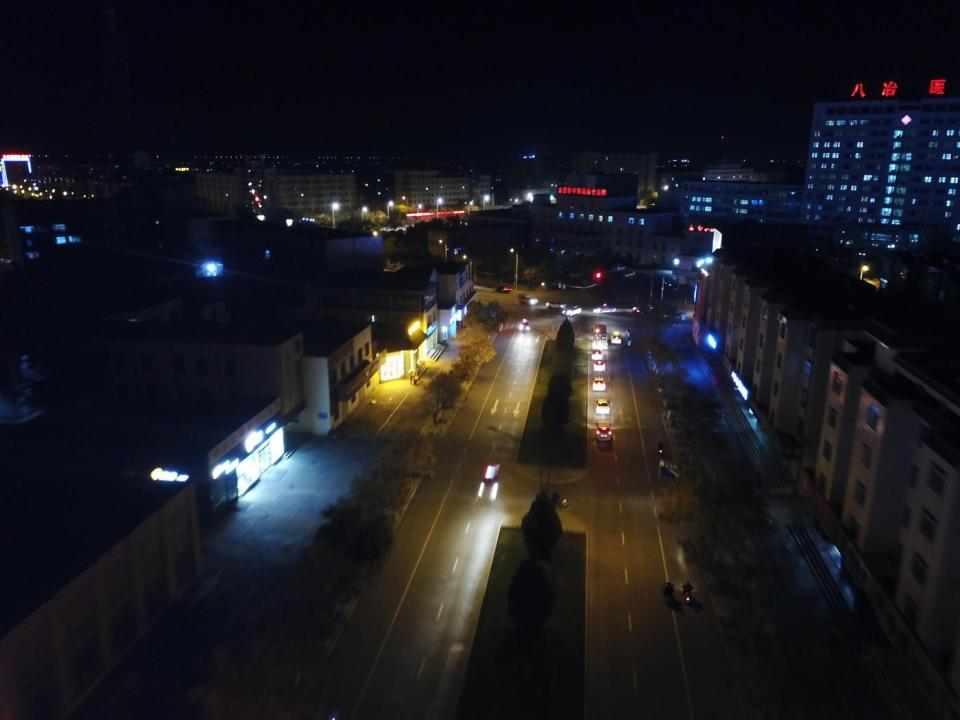bus: (590, 324, 608, 350)
car: (478, 464, 499, 501), (594, 398, 611, 414), (592, 303, 616, 313), (563, 305, 581, 317), (657, 311, 678, 321), (631, 306, 657, 314), (593, 376, 606, 391), (546, 300, 566, 309), (519, 295, 538, 304), (592, 359, 605, 372), (610, 331, 622, 343), (530, 277, 546, 286), (518, 318, 529, 331), (494, 285, 509, 293), (664, 278, 676, 288), (592, 349, 603, 359), (613, 264, 626, 270), (622, 271, 635, 277)
van: (595, 420, 612, 442)
